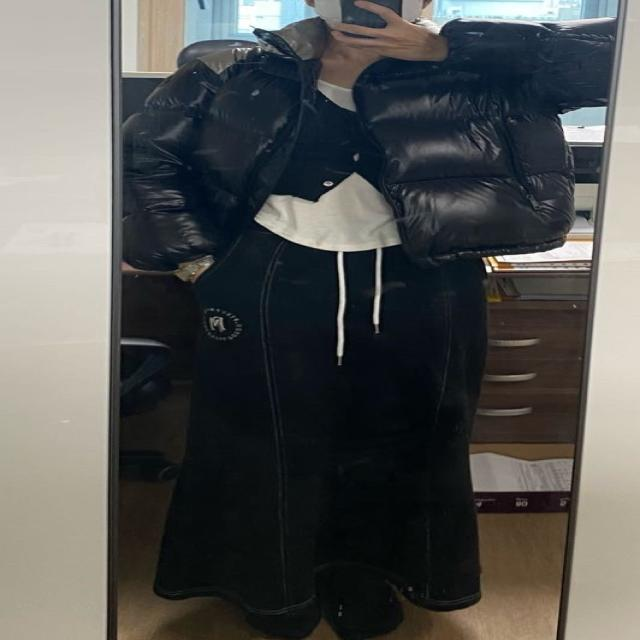padding: (122, 13, 605, 264)
skirt: (155, 225, 488, 616)
